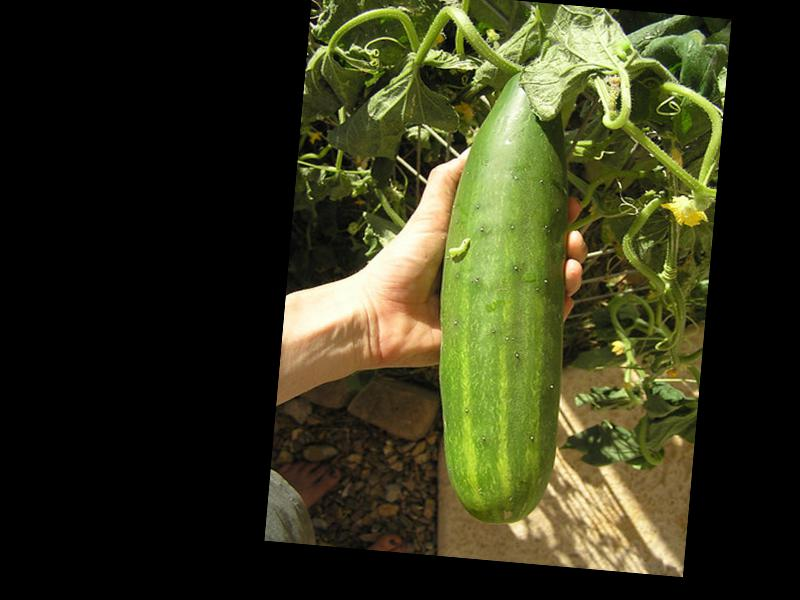Cucumber: (421, 61, 589, 528)
